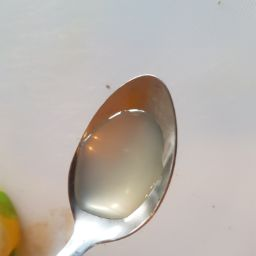Lime juice: (65, 104, 166, 230)
